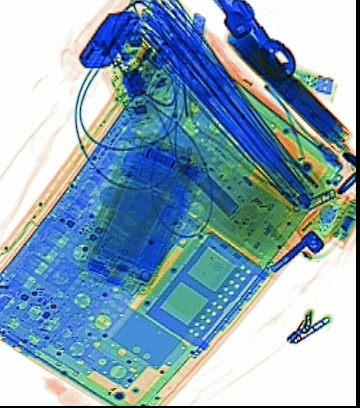lighter: (77, 11, 140, 70)
powerbank: (225, 23, 354, 156)
